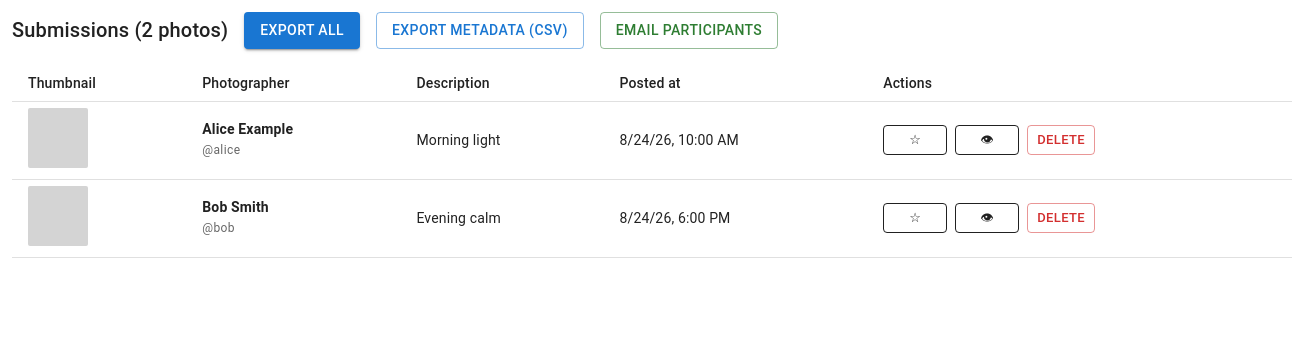
Test: SubmissionsPanel › shows error alert when delete fails
Expected: the text "Morning light" is shown, [400,101,603,179]
Click the button "Delete" in the row of "Alice Example".
click(1061, 140)  # box [1027,125,1095,155]
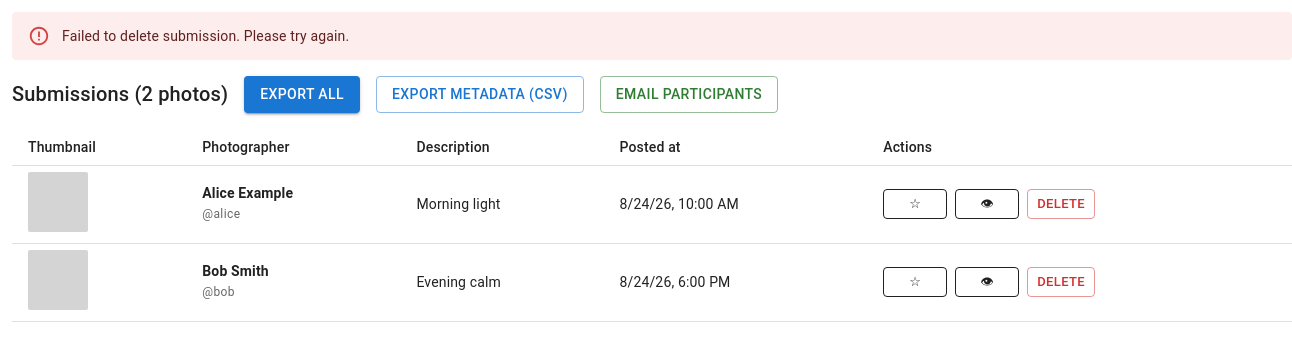
Expected: the text "Failed to delete submission. Please try again." is shown, [62,28,349,44]
